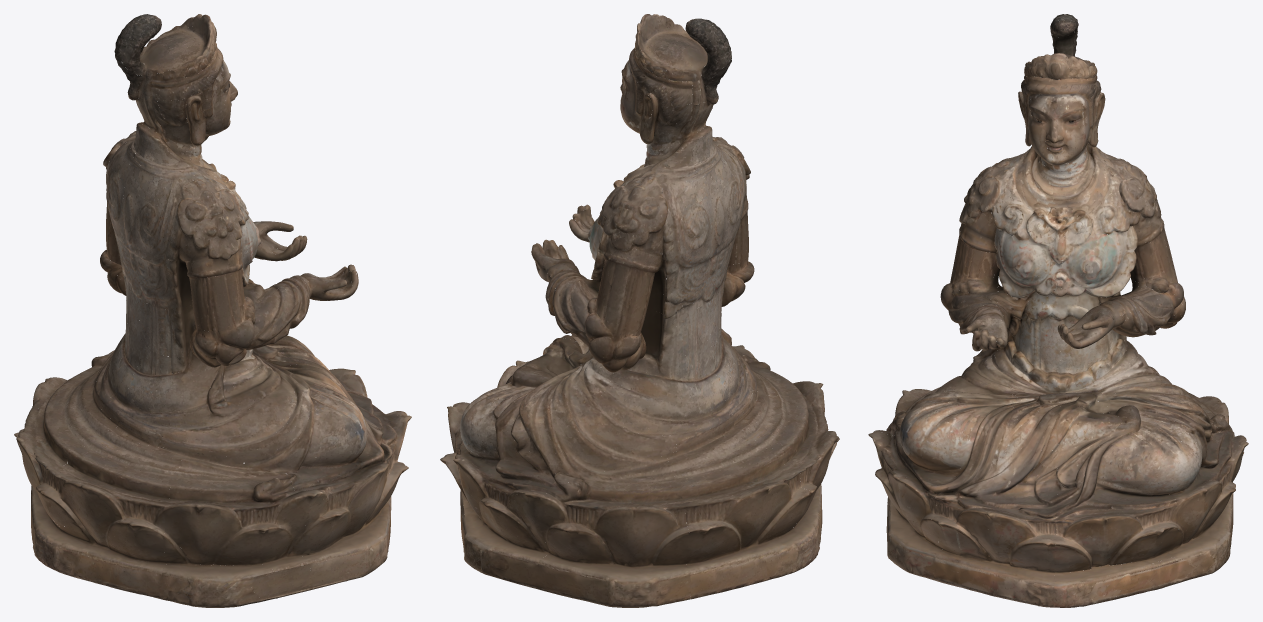
File: f5-maitreya.glb
3 views of the same model, side by side, from view 1: azimuth 30°, elevation 25°; view 2: azimuth 150°, elevation 25°; view 3: azimuth 270°, elevation 25° (orthographic). The views are drawn at different scales.
Parts seen in each view (by area): view 1: tripo_node_520ef399-a961-4f75-9183-532a1b84a9e0; view 2: tripo_node_520ef399-a961-4f75-9183-532a1b84a9e0; view 3: tripo_node_520ef399-a961-4f75-9183-532a1b84a9e0.
Boxes of the visible parts, x1,y1,x2,y2 form: tripo_node_520ef399-a961-4f75-9183-532a1b84a9e0: (14, 14, 411, 607); tripo_node_520ef399-a961-4f75-9183-532a1b84a9e0: (440, 14, 839, 607); tripo_node_520ef399-a961-4f75-9183-532a1b84a9e0: (868, 14, 1248, 607).
Size of the model in its own units: 0.6867 by 1 by 0.7072.
Materials: 1 (1 with a texture image).
